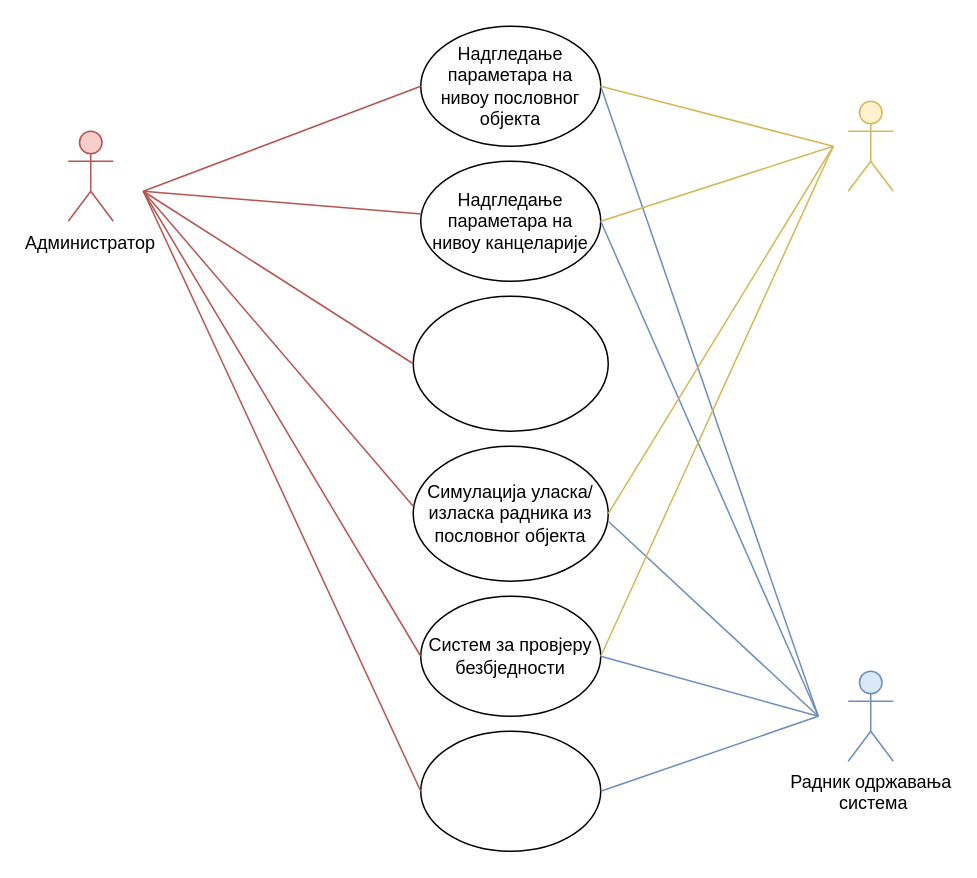
The diagram is 977 pixels wide and 878 high, and some of its shapes have lost their labels. Here are the shapes that lost their labels. From the top down, the box of each, then its label:
(847, 100, 893, 191): Радник
(412, 295, 608, 431): Приказ, креирање, брисање и модификовање података
(419, 730, 601, 851): Слање упозорења свим запосленим
